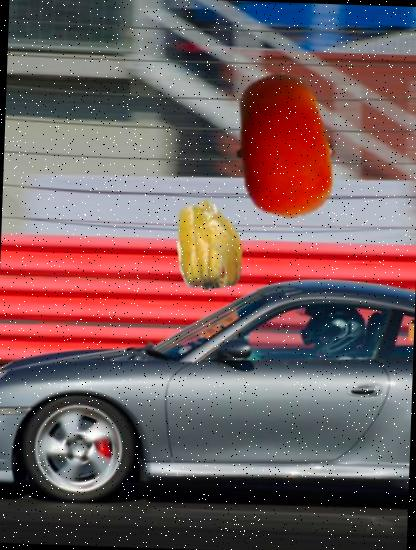Nectarine: (210, 70, 361, 221)
Physalis: (160, 194, 258, 292)
